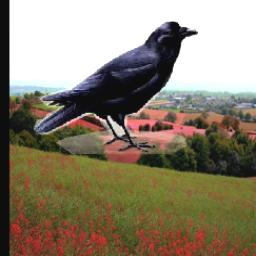Crow: (34, 20, 198, 154)
